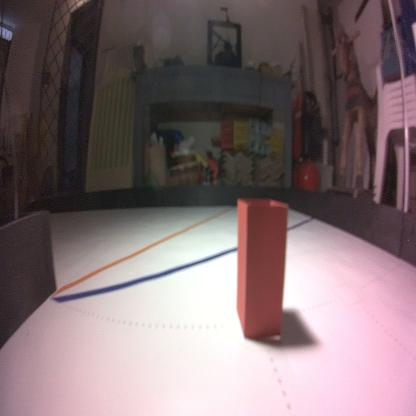red: (233, 195, 292, 343)
